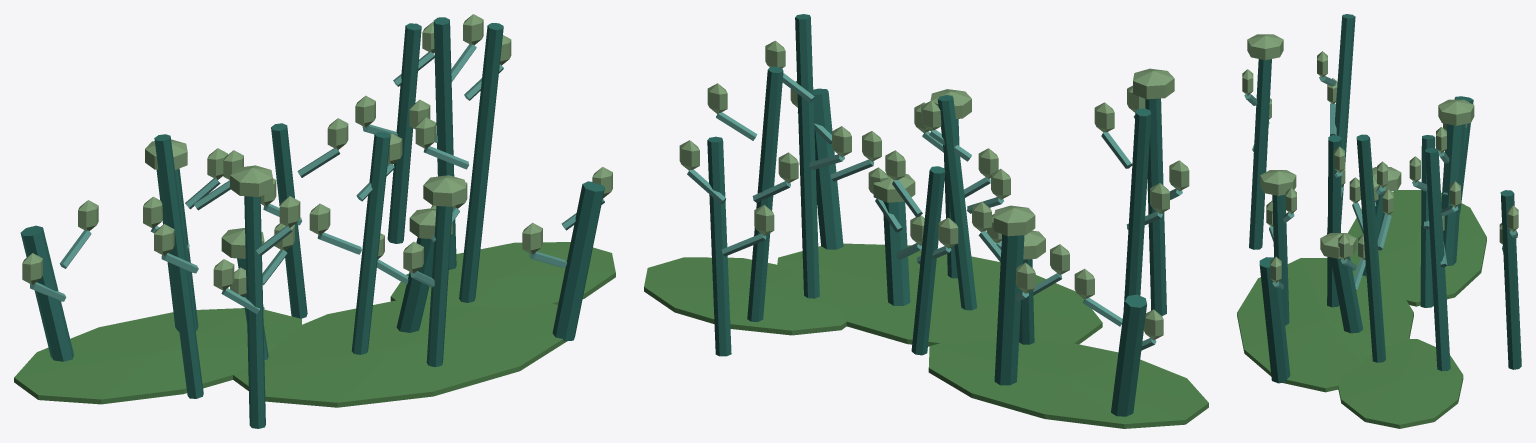
File: filter_grove_a.obj
3 views of the same model, side by side, from view 1: azimuth 30°, elevation 25°; view 2: azimuth 150°, elevation 25°; view 3: azimuth 270°, elevation 25° (orthographic). The views are drawn at different scales.
Parts seen in each view (by area): view 1: substrate_1, substrate_0, substrate_2, stem_5, stem_1, stem_6, stem_11, stem_8, stem_2, stem_10, stem_4, stem_3 (+8 smaller); view 2: substrate_0, substrate_1, substrate_2, stem_5, stem_10, stem_2, stem_11, stem_12, stem_1, stem_7, stem_8, stem_6 (+9 smaller); view 3: substrate_1, substrate_2, substrate_0, stem_5, stem_10, stem_6, stem_2, stem_8, stem_12, stem_1, stem_11, stem_7 (+9 smaller).
Part boxes in pixels (x1=…): substrate_1: x1=233, y1=300, x2=566, y2=407; substrate_0: x1=14, y1=308, x2=301, y2=404; substrate_2: x1=390, y1=242, x2=615, y2=306; stem_5: x1=459, y1=23, x2=503, y2=302; stem_1: x1=154, y1=134, x2=203, y2=398; stem_6: x1=244, y1=196, x2=265, y2=428; stem_11: x1=351, y1=132, x2=390, y2=354; stem_8: x1=552, y1=181, x2=604, y2=341; stem_2: x1=387, y1=23, x2=421, y2=243; stem_10: x1=433, y1=17, x2=456, y2=269; stem_4: x1=20, y1=225, x2=73, y2=361; stem_3: x1=426, y1=206, x2=452, y2=367; substrate_0: x1=928, y1=341, x2=1208, y2=428; substrate_1: x1=777, y1=243, x2=1102, y2=346; substrate_2: x1=644, y1=257, x2=846, y2=335; stem_5: x1=795, y1=14, x2=819, y2=298; stem_10: x1=747, y1=66, x2=783, y2=321; stem_2: x1=707, y1=136, x2=731, y2=356; stem_11: x1=937, y1=95, x2=977, y2=310; stem_12: x1=994, y1=234, x2=1024, y2=385; stem_1: x1=1123, y1=108, x2=1151, y2=309; stem_7: x1=911, y1=166, x2=945, y2=355; stem_8: x1=813, y1=88, x2=843, y2=249; stem_6: x1=1145, y1=98, x2=1166, y2=315; substrate_1: x1=1237, y1=258, x2=1413, y2=392; substrate_2: x1=1338, y1=339, x2=1463, y2=428; substrate_0: x1=1348, y1=190, x2=1486, y2=306; stem_5: x1=1356, y1=134, x2=1385, y2=362; stem_10: x1=1425, y1=148, x2=1450, y2=371; stem_6: x1=1249, y1=59, x2=1271, y2=249; stem_2: x1=1500, y1=190, x2=1521, y2=369; stem_8: x1=1259, y1=257, x2=1290, y2=383; stem_12: x1=1441, y1=124, x2=1465, y2=265; stem_1: x1=1327, y1=14, x2=1355, y2=234; stem_11: x1=1327, y1=135, x2=1341, y2=307; stem_7: x1=1420, y1=135, x2=1435, y2=307.
Bounding box in the file's own units: 6.73 × 3.18 × 3.45.
